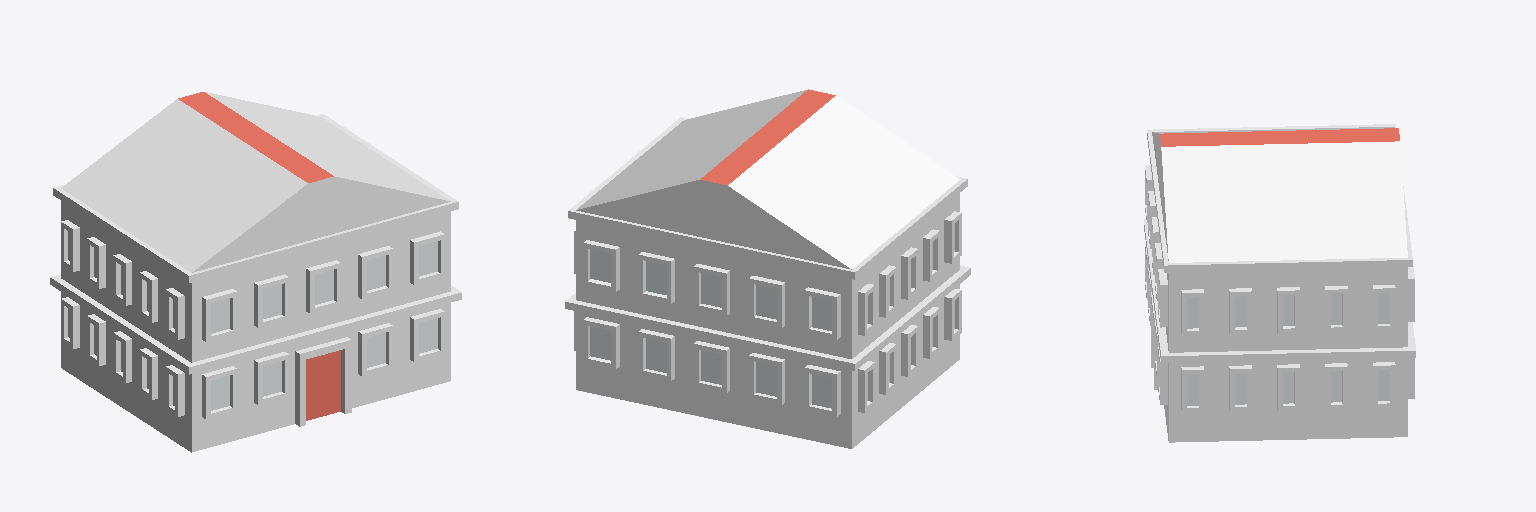
File: 绿红房子.obj
3 views of the same model, side by side, from view 1: azimuth 30°, elevation 25°; view 2: azimuth 150°, elevation 25°; view 3: azimuth 270°, elevation 25° (orthographic).
Visible parts, largest first — view 1: 右一.1; view 2: 右一.1; view 3: 右一.1.
Boxes of the visible parts, <box> form: 右一.1: <box>50,92,461,452</box>; 右一.1: <box>565,89,970,448</box>; 右一.1: <box>1144,124,1415,442</box>.
Size of the model in its own units: 1590 by 1226 by 1278.